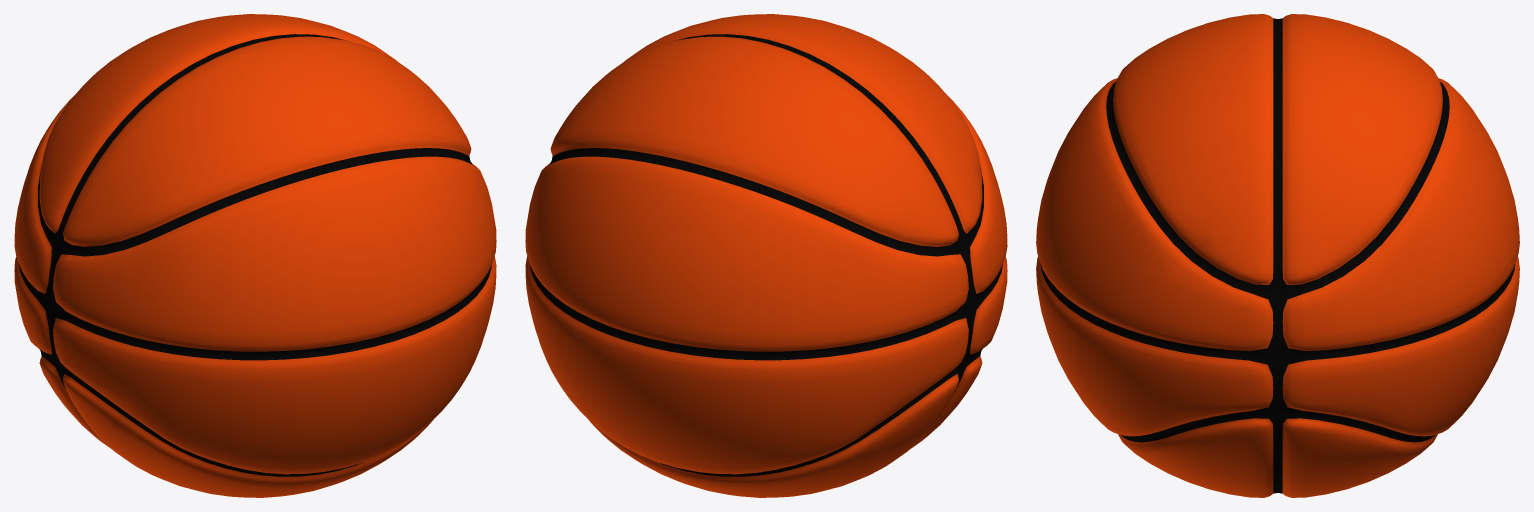
The model's file is ballon_basket.fbx.
3 views of the same model, side by side, from view 1: azimuth 30°, elevation 25°; view 2: azimuth 150°, elevation 25°; view 3: azimuth 270°, elevation 25° (orthographic).
Parts seen in each view (by area): view 1: Ballon_Basket; view 2: Ballon_Basket; view 3: Ballon_Basket.
Boxes of the visible parts, x1,y1,x2,y2 form: Ballon_Basket: [14, 14, 496, 497]; Ballon_Basket: [525, 14, 1007, 497]; Ballon_Basket: [1036, 14, 1519, 497].
Bounding box in the file's own units: 185 × 185 × 185.
